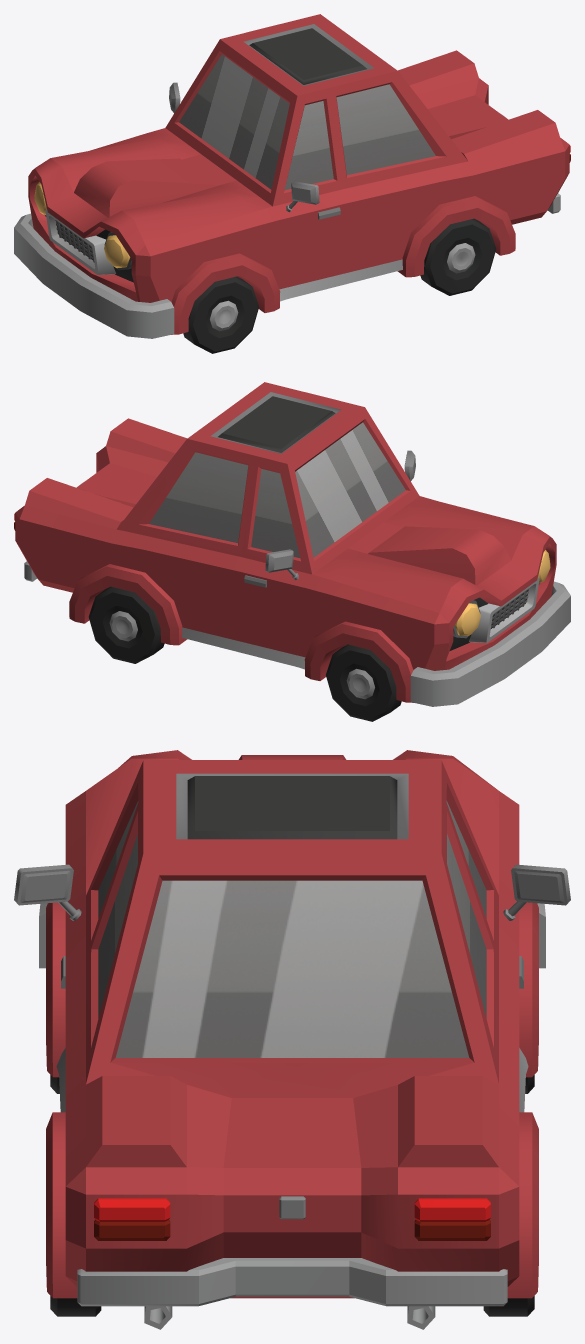
The model's file is Car_17_L.gltf.
The picture shows the model from 3 angles, top to bottom: view 1: azimuth 30°, elevation 25°; view 2: azimuth 150°, elevation 25°; view 3: azimuth 270°, elevation 25°; orthographic projection. The views are drawn at different scales.
Visible parts, largest first — view 1: Car_17_L, RL, FL; view 2: Car_17_L, RR, FR; view 3: Car_17_L, RL, RR.
Boxes of the visible parts, box(x1,y1,x2,y2) form: Car_17_L: box(14, 14, 570, 338); RL: box(420, 218, 496, 295); FL: box(183, 276, 258, 353); Car_17_L: box(14, 382, 570, 706); RR: box(88, 586, 164, 663); FR: box(326, 644, 401, 721); Car_17_L: box(14, 750, 570, 1329); RL: box(50, 1296, 101, 1316); RR: box(483, 1296, 534, 1316).
Size of the model in its own units: 3.39 by 1.53 by 1.85.
Materials: 4 (4 with a texture image).
